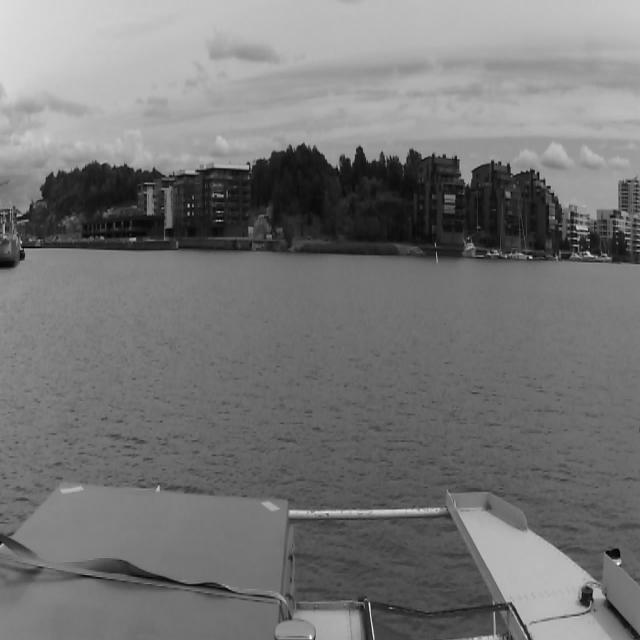ship: (514, 198, 534, 260), (1, 216, 21, 268), (476, 189, 484, 258), (500, 204, 510, 258), (462, 236, 476, 258), (580, 251, 598, 261), (598, 254, 612, 262), (568, 254, 580, 262), (486, 250, 498, 258)
